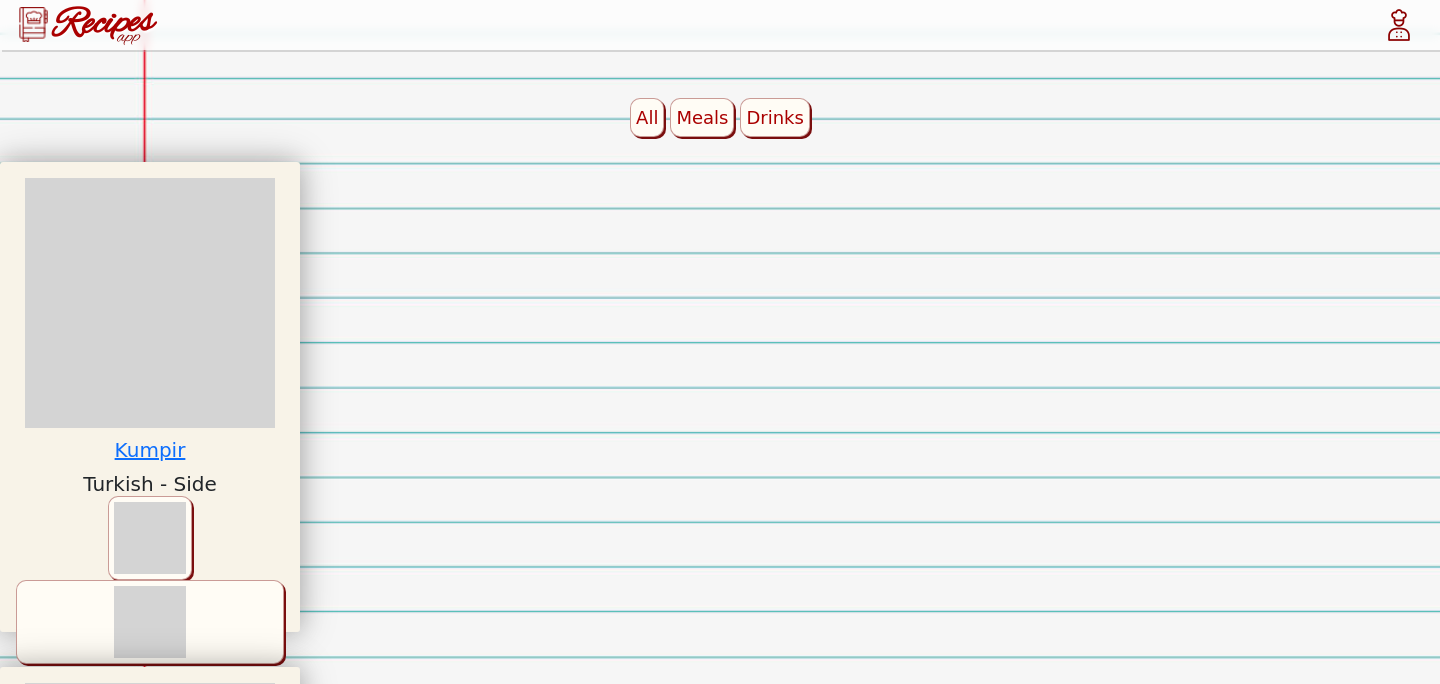
Test: Verifica se a página Favorite Recipes renderiza as informações corretas › Verifica se ao clicar no botão para desfavoritar a receita ela some da tela
Check: the heading with test id "0-horizontal-name" reads "Kumpir", box top-left (115, 438), bottom-right (185, 462)
What coordinates should you click on to do the following:
click the button with test id "0-horizontal-favorite-btn"
I would click on:
 (150, 622)
Its box is top-left (16, 580), bottom-right (284, 664).
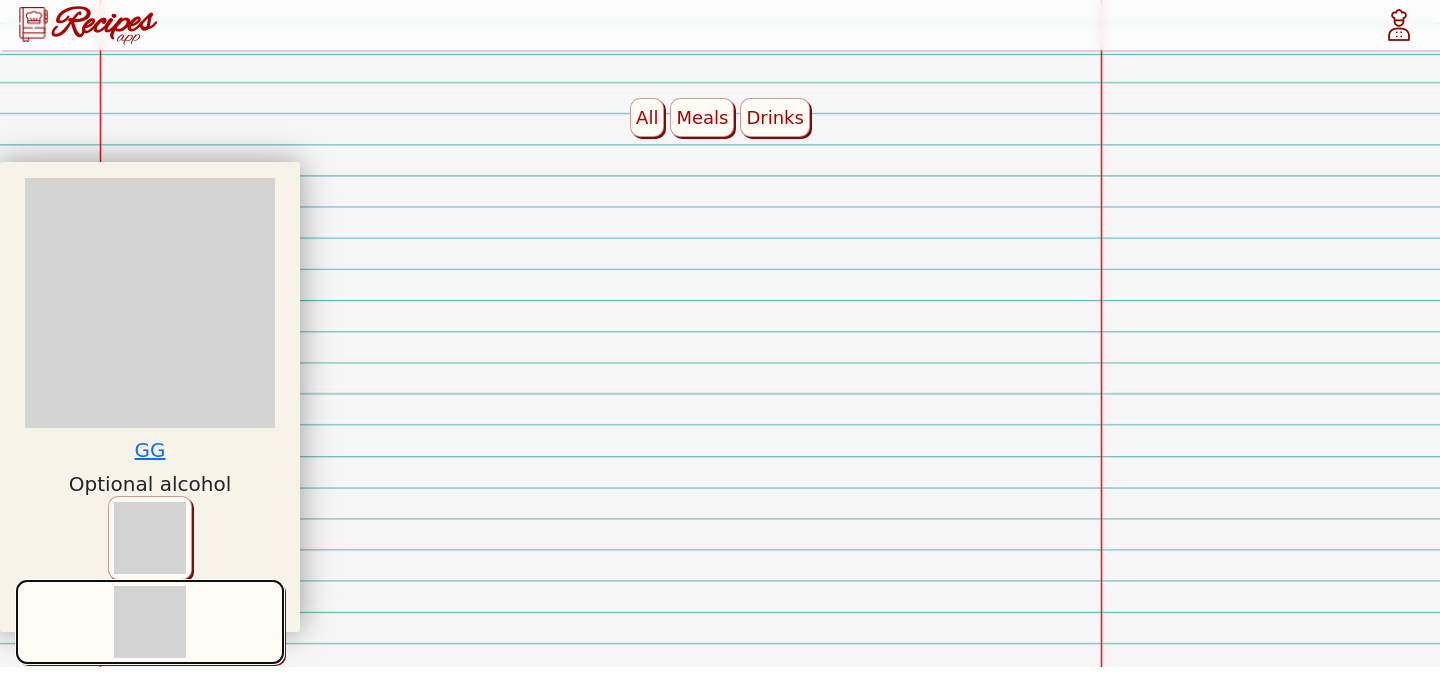
Check: the heading with test id "0-horizontal-name" reads "GG", box top-left (134, 438), bottom-right (166, 462)
